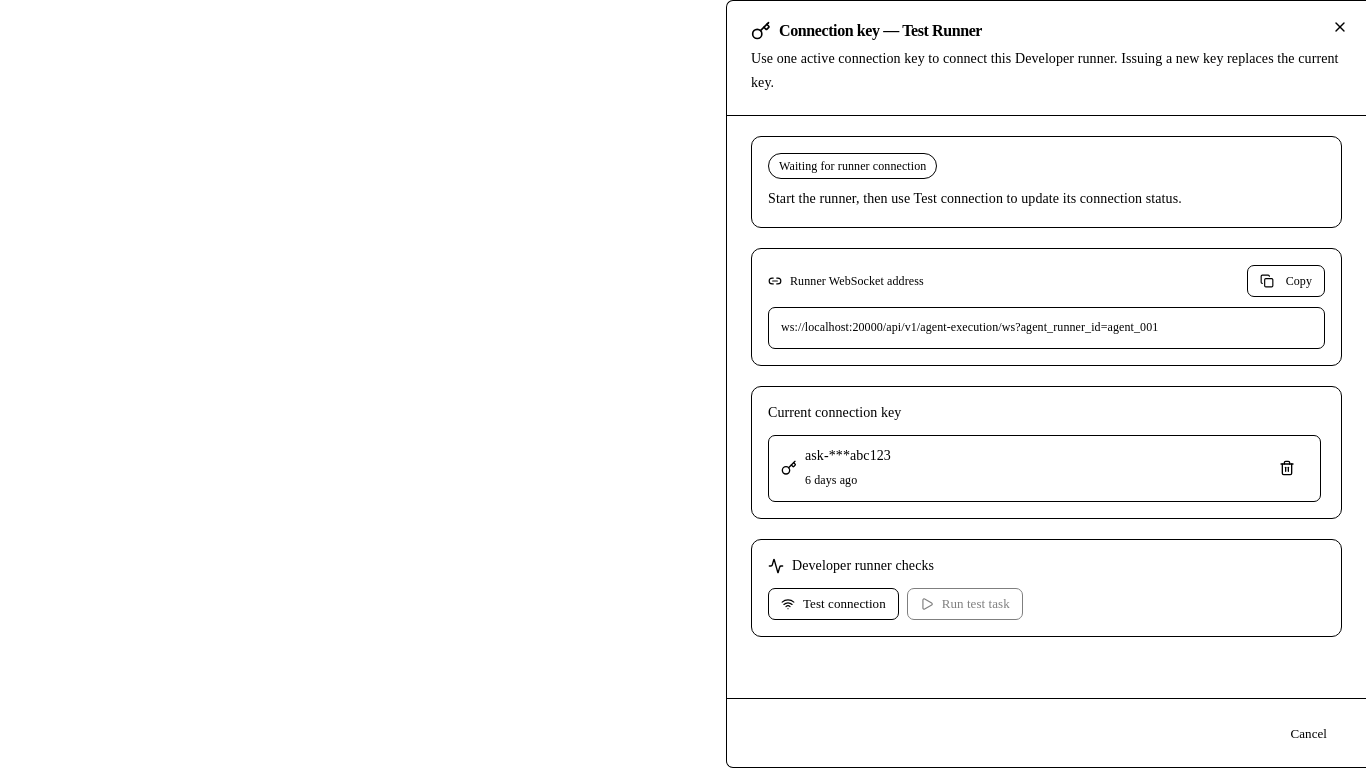
AgentRunnerKeysDialog › Key Revocation › closes revoke dialog on cancel
expect the text "ask-***abc123" is shown: met, box [805, 448, 891, 462]
Click the 3rd button.
click(1287, 468)  # box [1266, 452, 1308, 484]
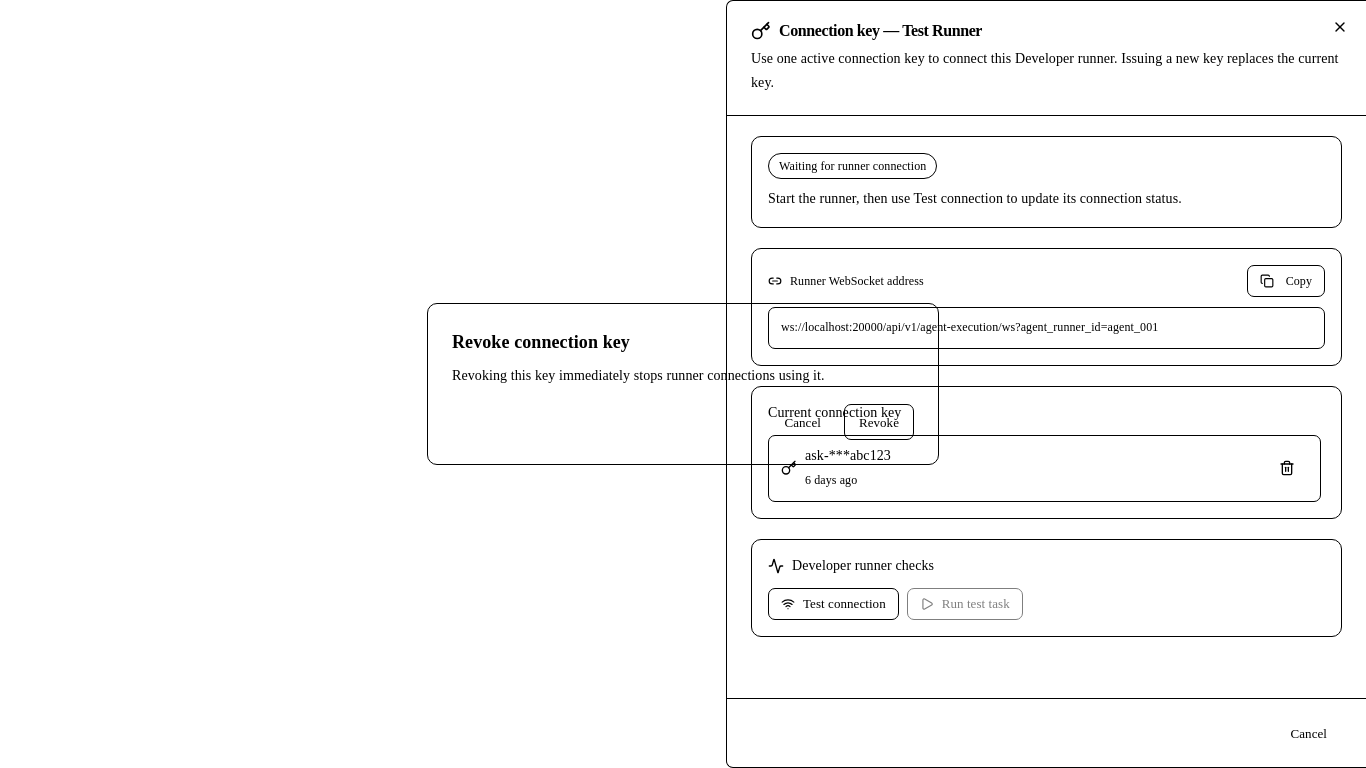
Click the button "Cancel".
click(803, 422)  # box [769, 404, 836, 440]
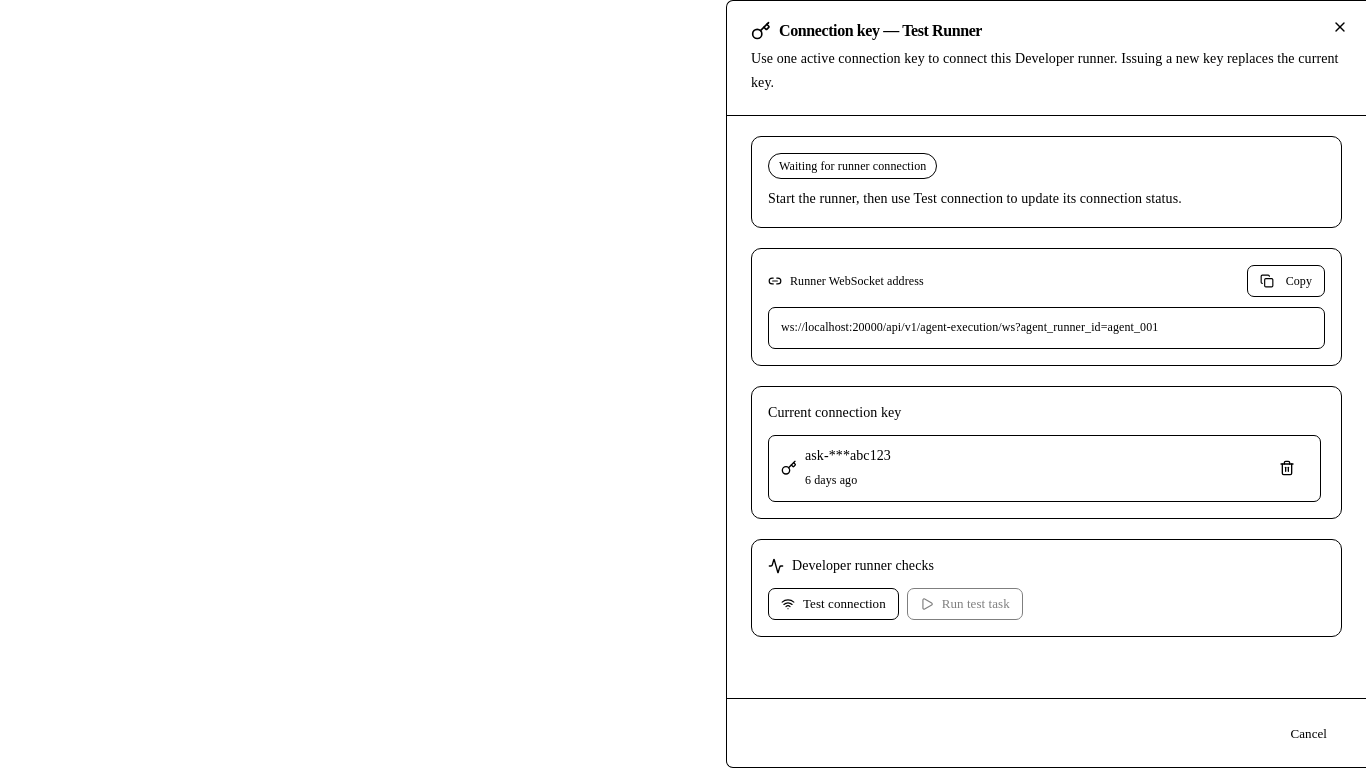
expect the heading "Revoke connection key" is gone: met
